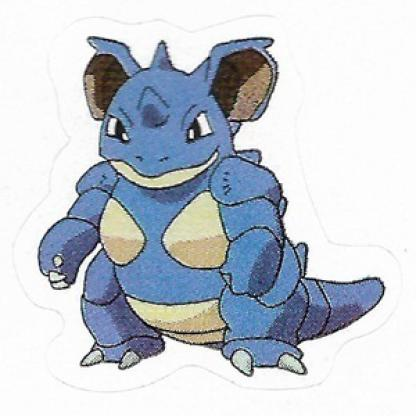Nidoqueen: (31, 32, 388, 378)
